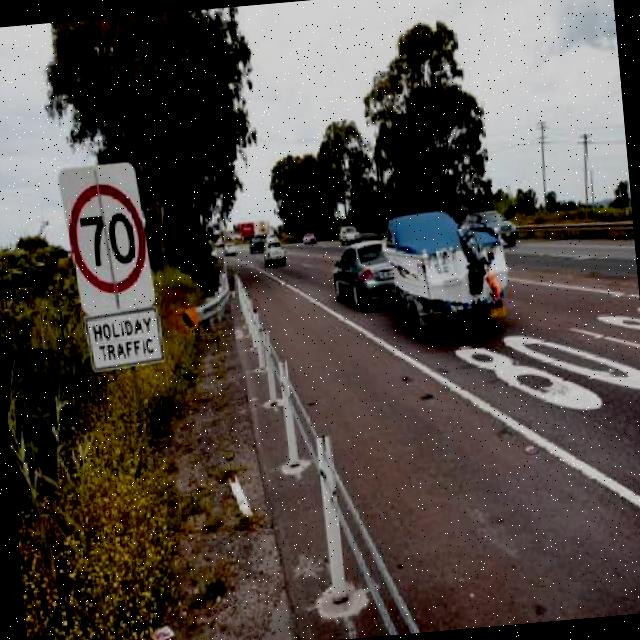Ograniczenie predkosci do 70: (64, 176, 150, 306)
